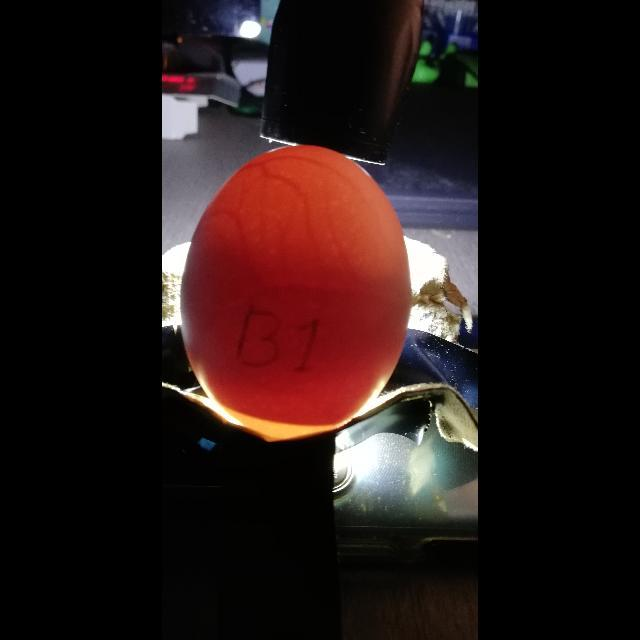Fertile: (179, 139, 415, 435)
